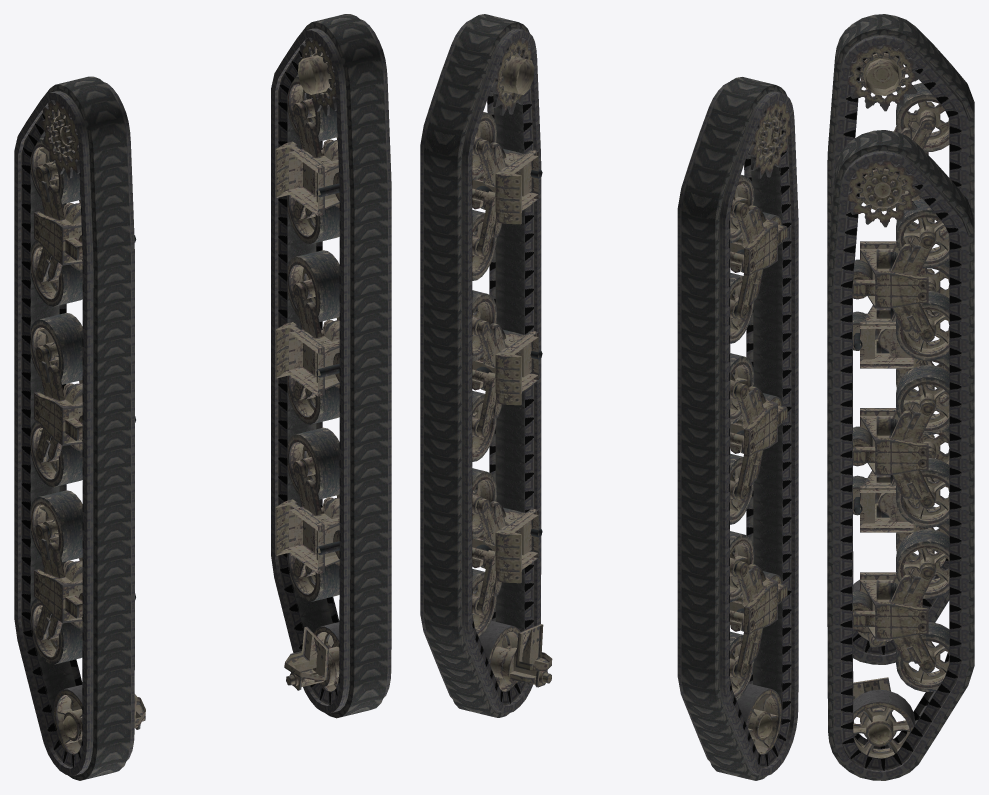
File: Chassis.glb
3 views of the same model, side by side, from view 1: azimuth 30°, elevation 25°; view 2: azimuth 150°, elevation 25°; view 3: azimuth 270°, elevation 25° (orthographic). The views are drawn at different scales.
Visible parts, largest first — view 1: set_0_group_0, set_1_group_0, set_3_group_0, set_2_group_0; view 2: set_0_group_0, set_1_group_0, set_3_group_0, set_2_group_0; view 3: set_1_group_0, set_3_group_0, set_2_group_0, set_0_group_0.
Part boxes in pixels (x1,y1,x2,y2): set_0_group_0: (14, 76, 134, 780); set_1_group_0: (271, 14, 391, 718); set_3_group_0: (275, 37, 339, 691); set_2_group_0: (31, 100, 145, 754); set_0_group_0: (677, 77, 798, 780); set_1_group_0: (420, 14, 541, 717); set_3_group_0: (472, 38, 552, 691); set_2_group_0: (730, 101, 790, 754); set_1_group_0: (827, 130, 974, 780); set_3_group_0: (847, 160, 949, 758); set_2_group_0: (847, 44, 949, 647); set_0_group_0: (827, 14, 974, 664).
Size of the model in its own units: 2.67 by 5.7 by 1.2.
Materials: 4 (4 with a texture image).
